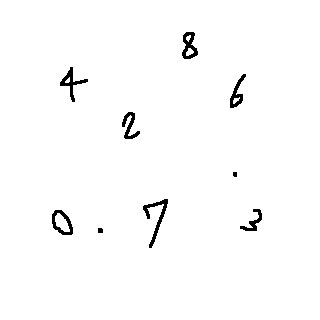.: (92, 223, 111, 239), (226, 164, 242, 182)
0: (47, 203, 78, 241)
2: (118, 109, 143, 147)
3: (233, 205, 270, 241)
4: (52, 65, 94, 108)
6: (222, 67, 258, 117)
7: (136, 193, 174, 259)
8: (177, 25, 202, 70)
